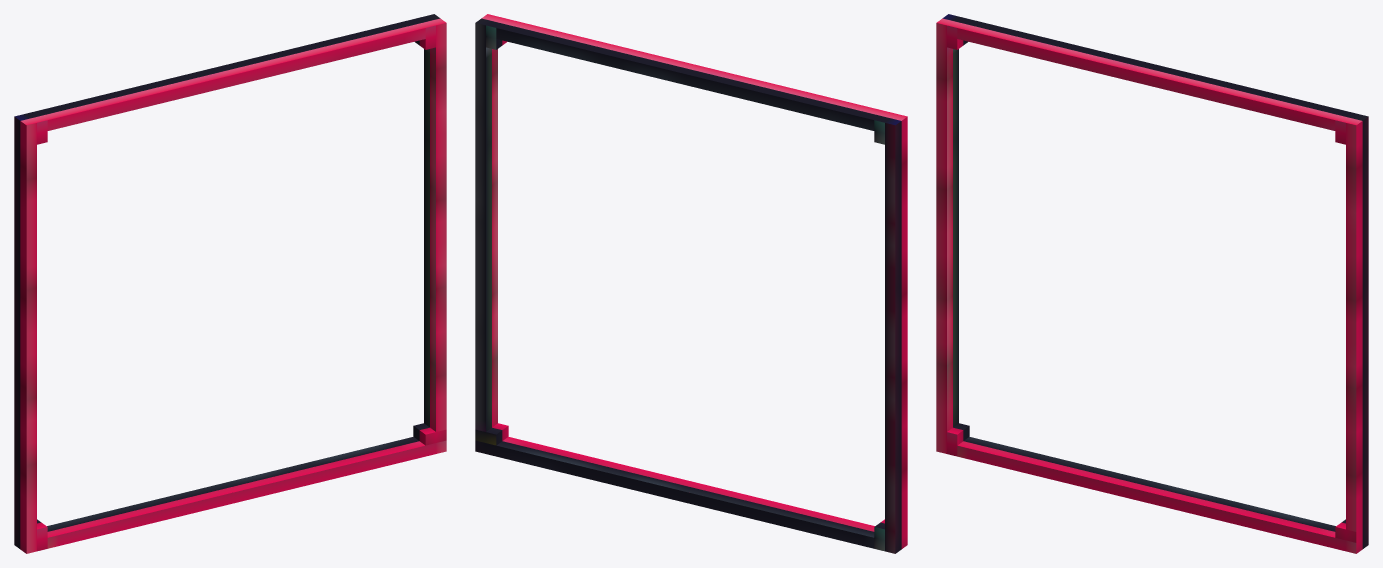
Rendered from BillboardModule_NeonFrame_C_00.fbx.
3 renders of one model, left to right at view 1: azimuth 30°, elevation 25°; view 2: azimuth 150°, elevation 25°; view 3: azimuth 330°, elevation 25°, orthographic.
Parts seen in each view (by area): view 1: BillboardModule_NeonFrame_C_00; view 2: BillboardModule_NeonFrame_C_00; view 3: BillboardModule_NeonFrame_C_00.
Part boxes in pixels (x1=…): BillboardModule_NeonFrame_C_00: x1=14, y1=14, x2=446, y2=553; BillboardModule_NeonFrame_C_00: x1=475, y1=14, x2=907, y2=553; BillboardModule_NeonFrame_C_00: x1=936, y1=14, x2=1368, y2=553.
Bounding box in the file's own units: 200 × 195 × 10.
